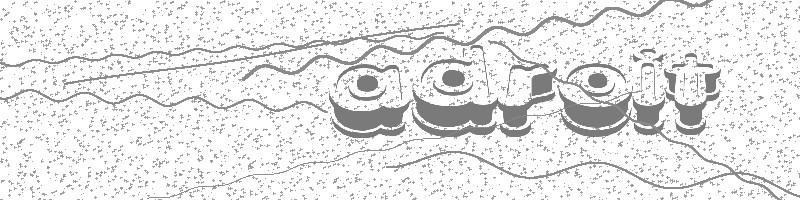a: (328, 63, 408, 139)
d: (410, 44, 497, 140)
i: (631, 48, 665, 136)
o: (558, 63, 632, 139)
r: (497, 62, 558, 138)
t: (664, 52, 723, 136)
